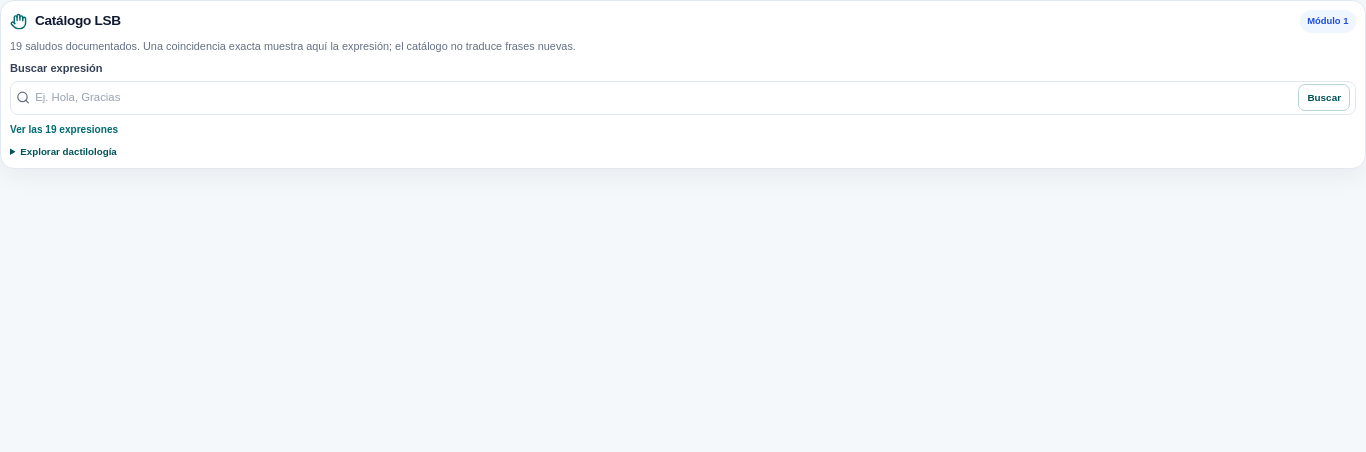
LsbExpressionPanel › lists all 19 documented expressions with model availability
What coordinates should you click on to do the following:
click the button "Ver las 19 expresiones"
I would click on:
 (64, 130)
Its box is [10, 121, 118, 140].
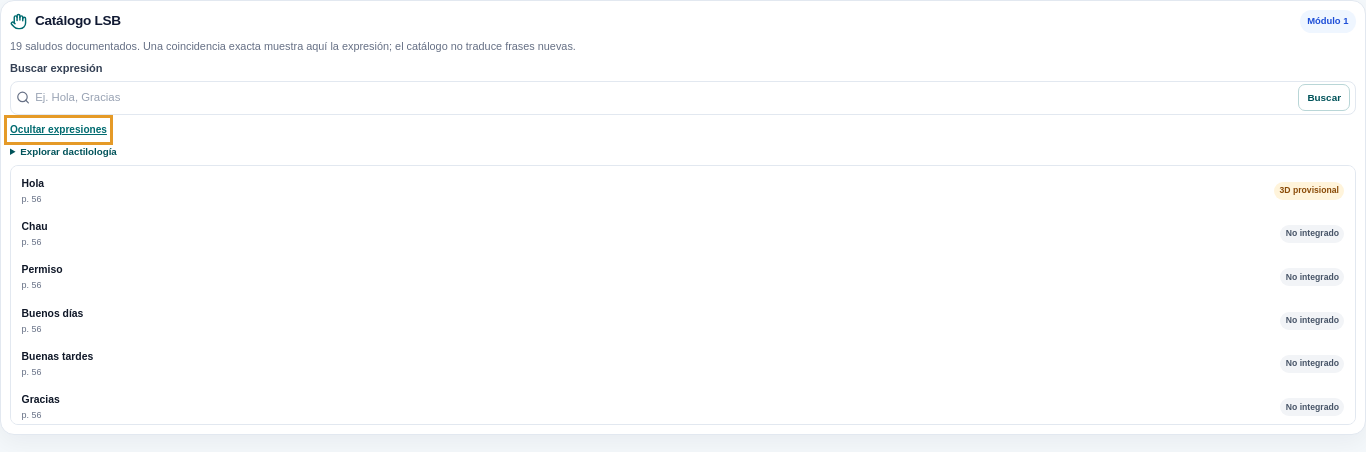
Expected: the number of buttons named "ver ficha de" is 19
Expected: the button with aria-label "ver ficha de Hola; Clip provisional" is shown, [16, 171, 1350, 210]
Expected: the text "3D provisional" is shown, [1274, 182, 1344, 200]
